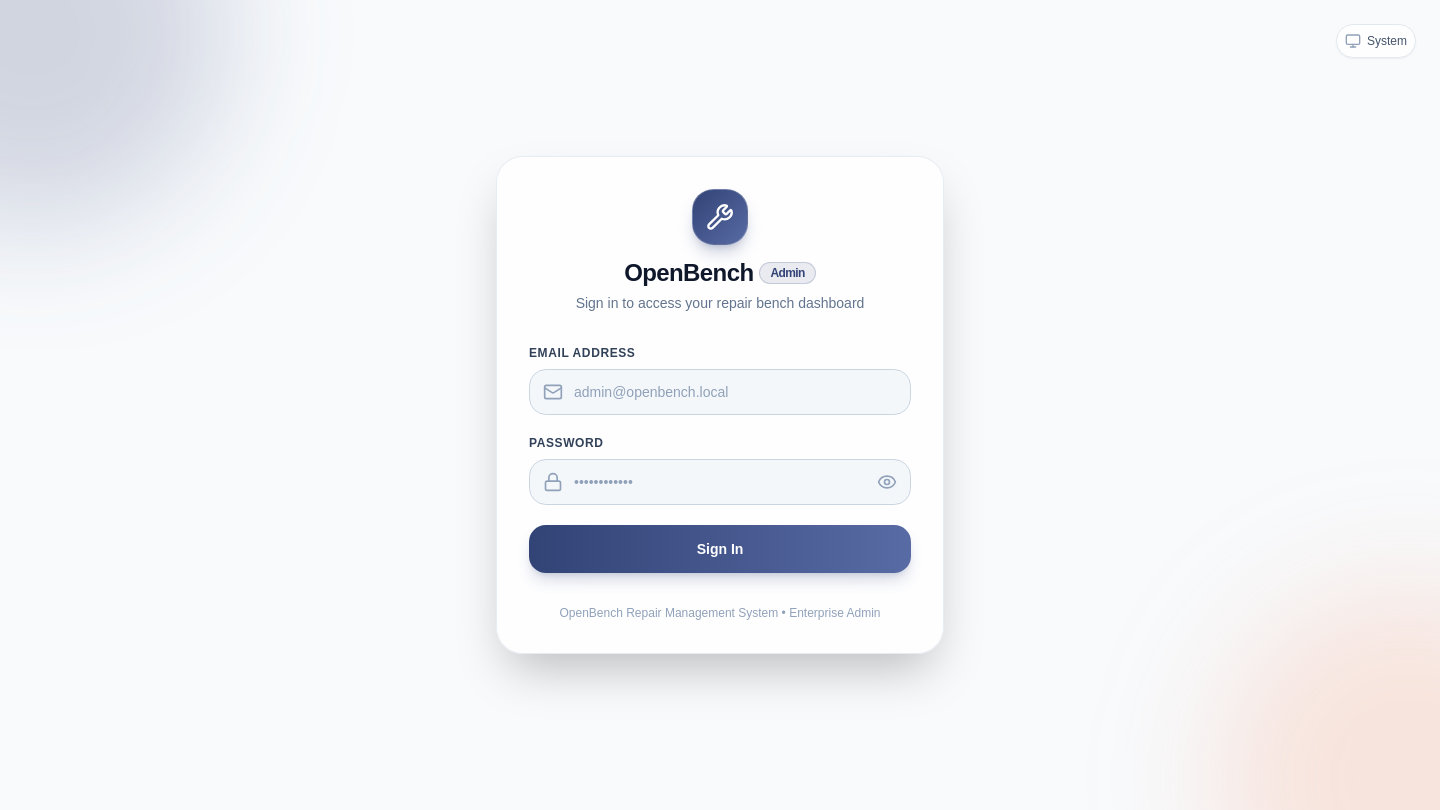
Test case: LoginPage › displays error message when login fails
The width and height of the screenshot is (1440, 810).
Type "wrong@openbench.local" into the field with placeholder "admin@openbench.local". click: {"x": 720, "y": 392}
box: [529,369,911,415]
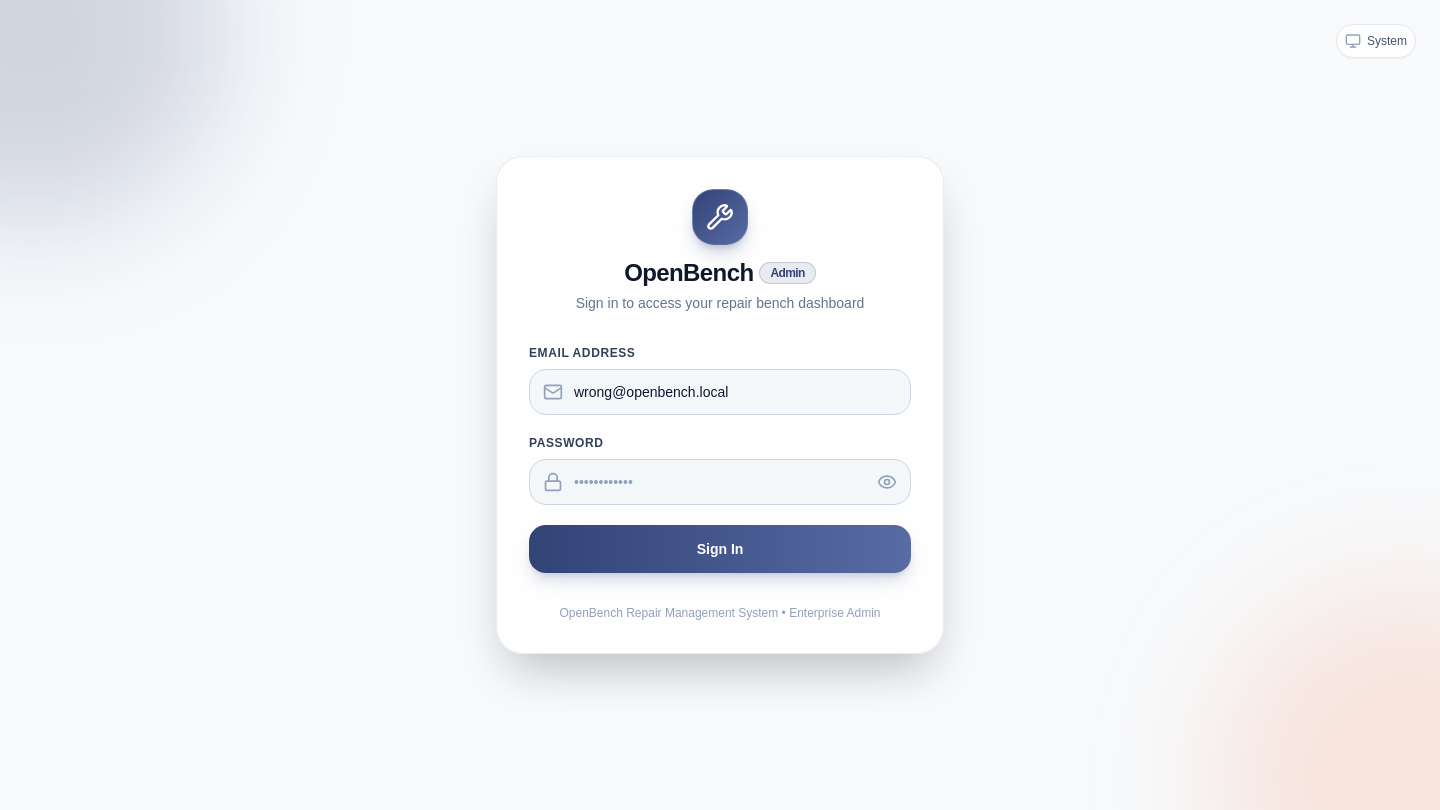
Type "wrongpass" into the password field with placeholder "••••••••••••". click: {"x": 720, "y": 482}
box: [529,459,911,505]
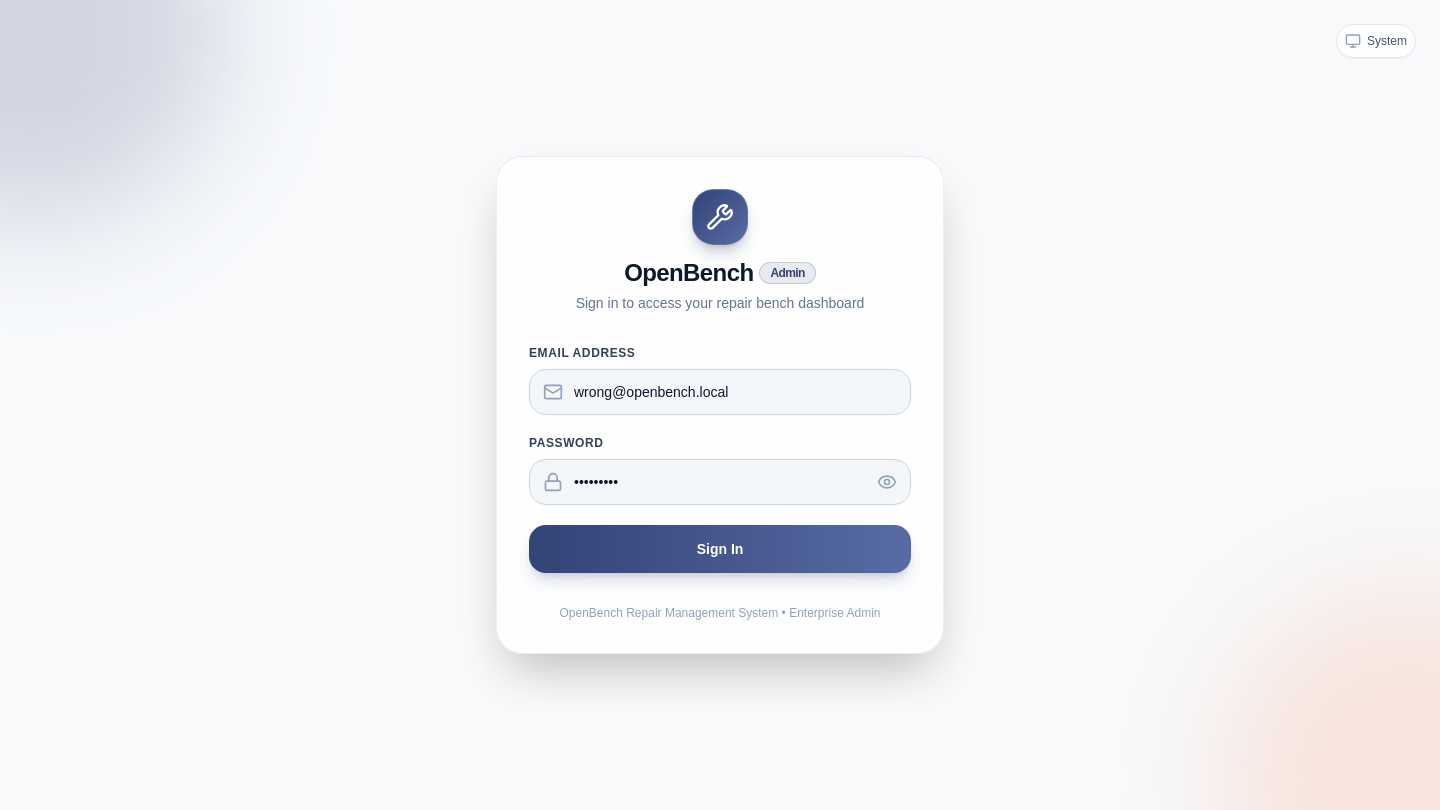
Click the button "Sign In". click: {"x": 720, "y": 549}
box: [529,525,911,573]
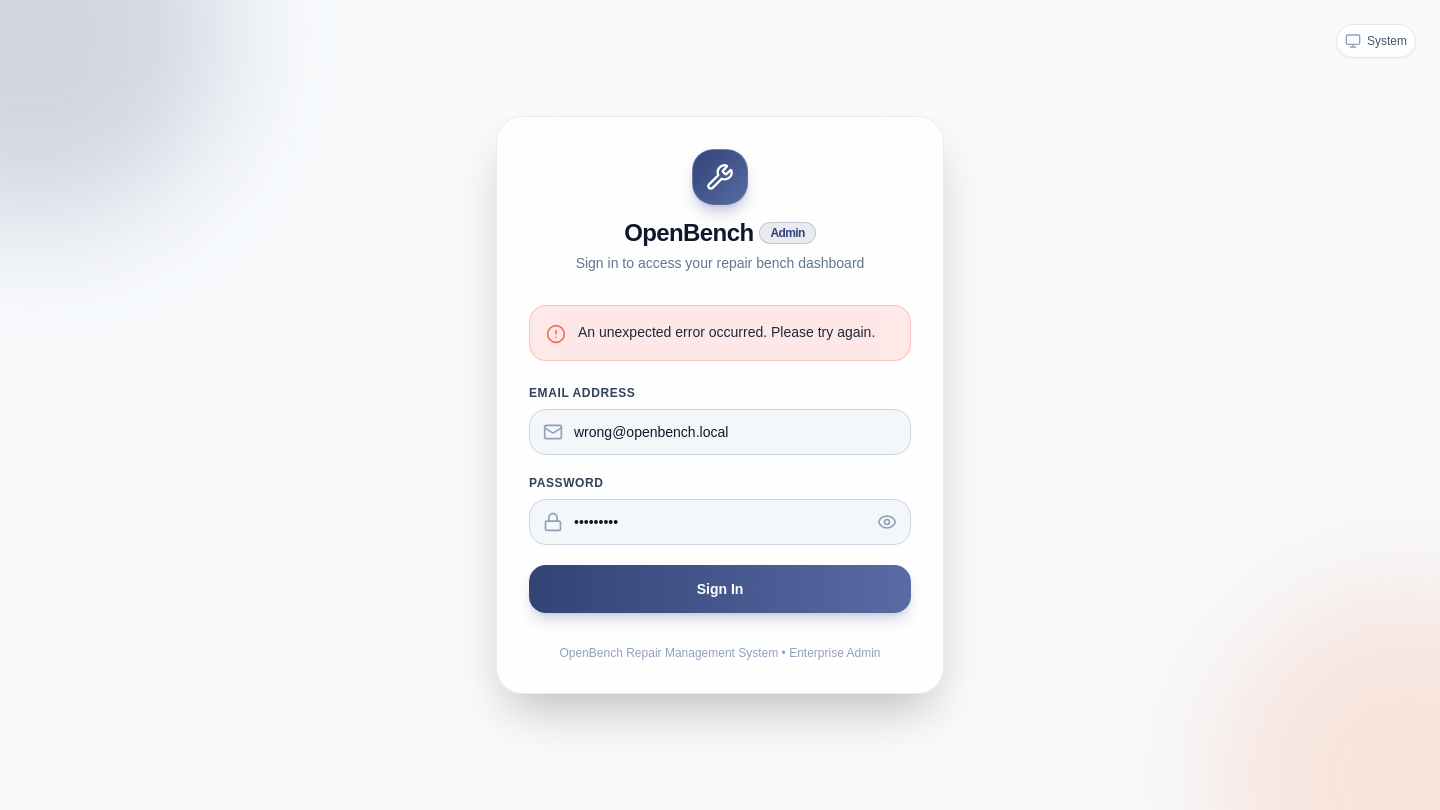
Result: the text "An unexpected error occurred. Please try again." is shown at [578,322,894,342]
